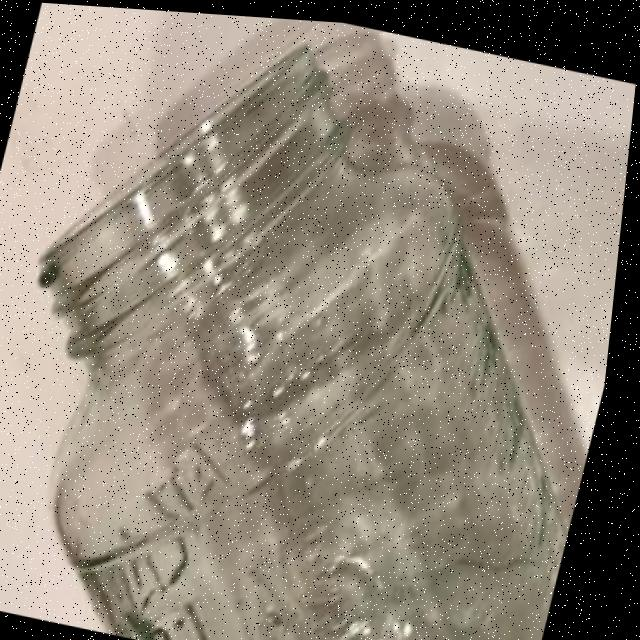glass: (0, 1, 640, 640)
